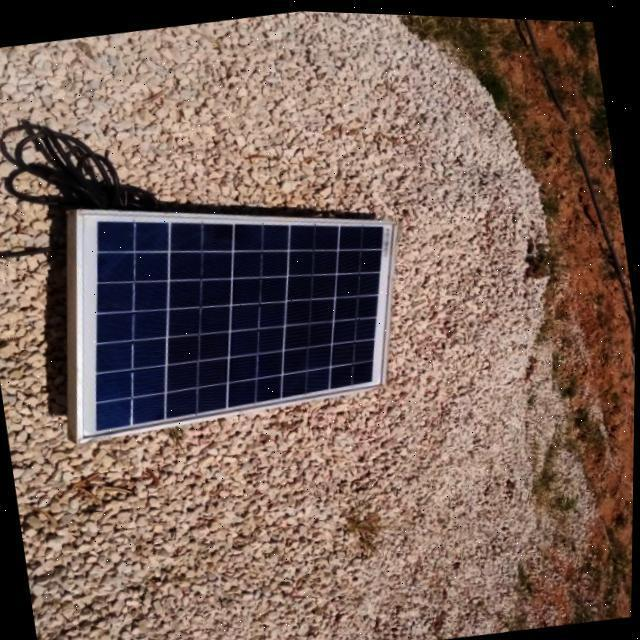Normal Solar Panel: (46, 160, 426, 450)
